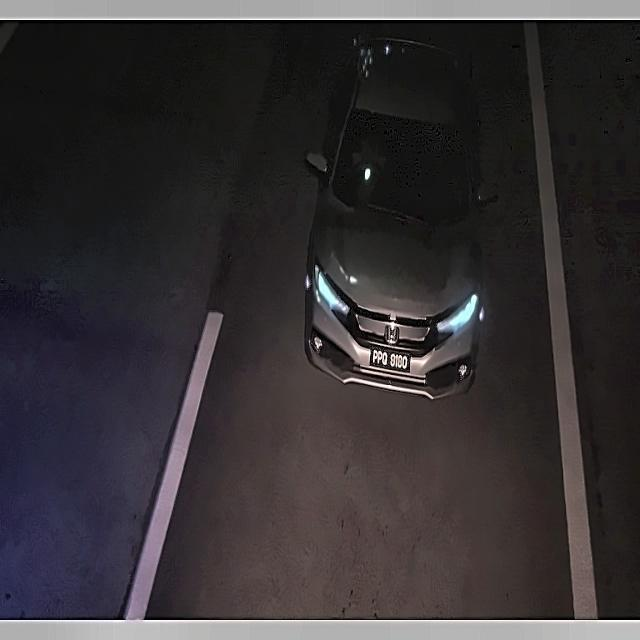car: (366, 337, 417, 381)
